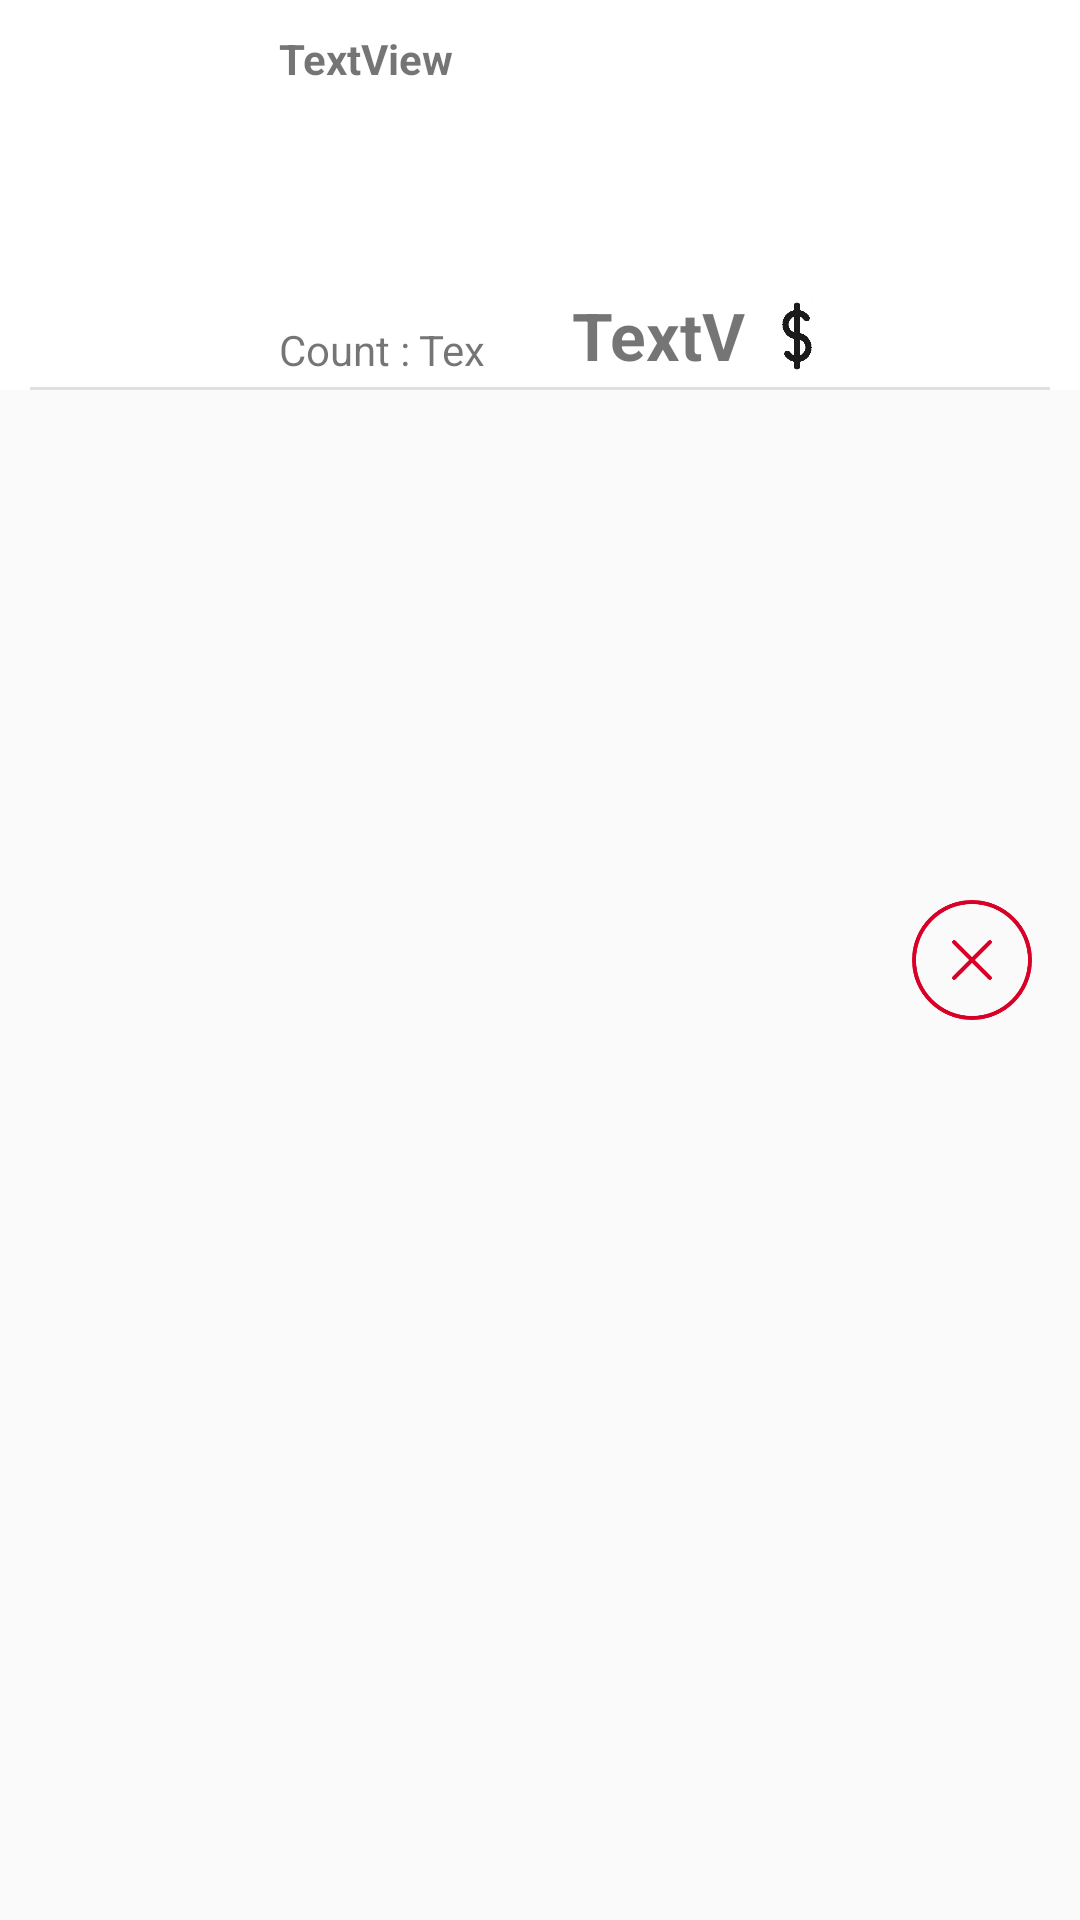

Named icons in this screenshot (1080 × 1920) and their centers, (x,y):
delete: (972,960)
